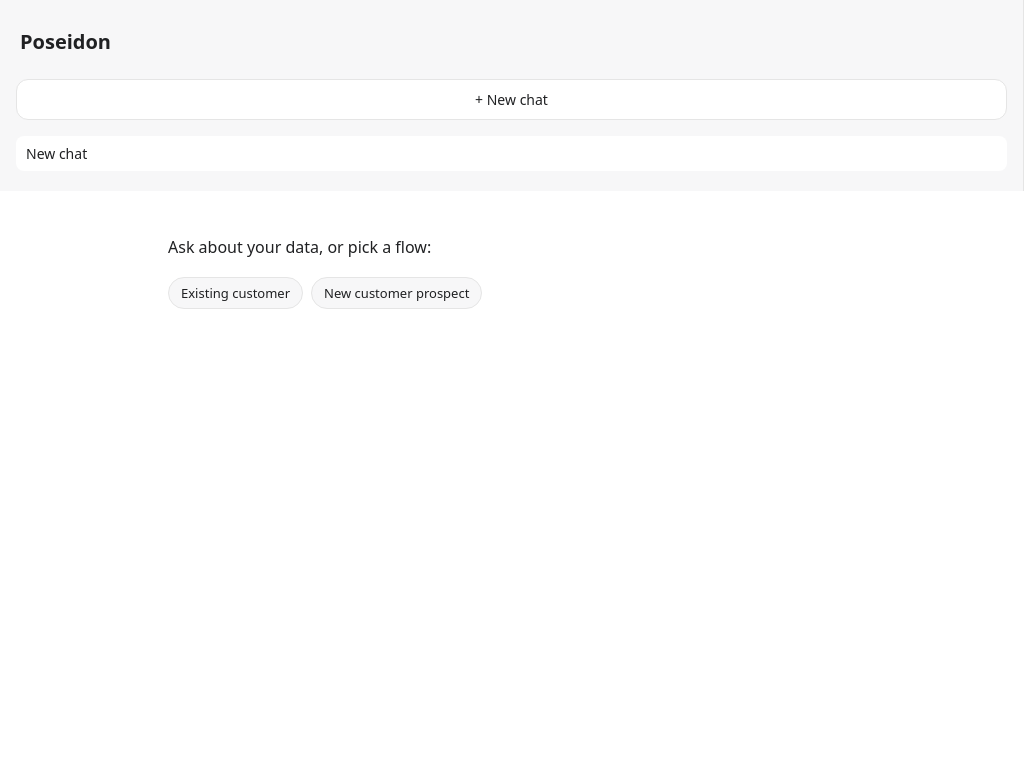
Test: clicking a chip sends its entry phrase as a user message, not just a composer insert
Expected: the text "Ask about your data, or pick a flow:" is shown, [168,236,431,258]
What coordinates should you click on to do the following:
click the button "Existing customer"
I would click on:
 (236, 293)
Its box is [168,277,303,309].
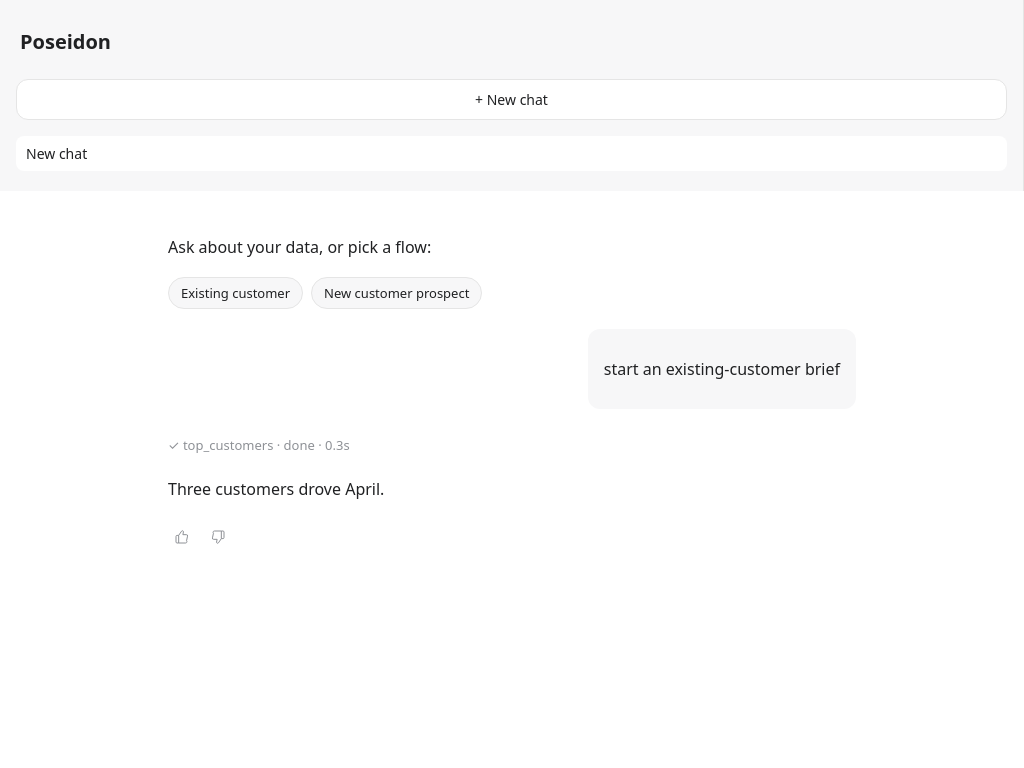
Expected: the text "Three customers drove April." is shown, [168,477,384,503]
